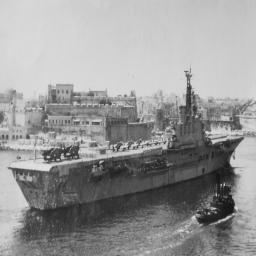Portanaves: (7, 67, 250, 217)
